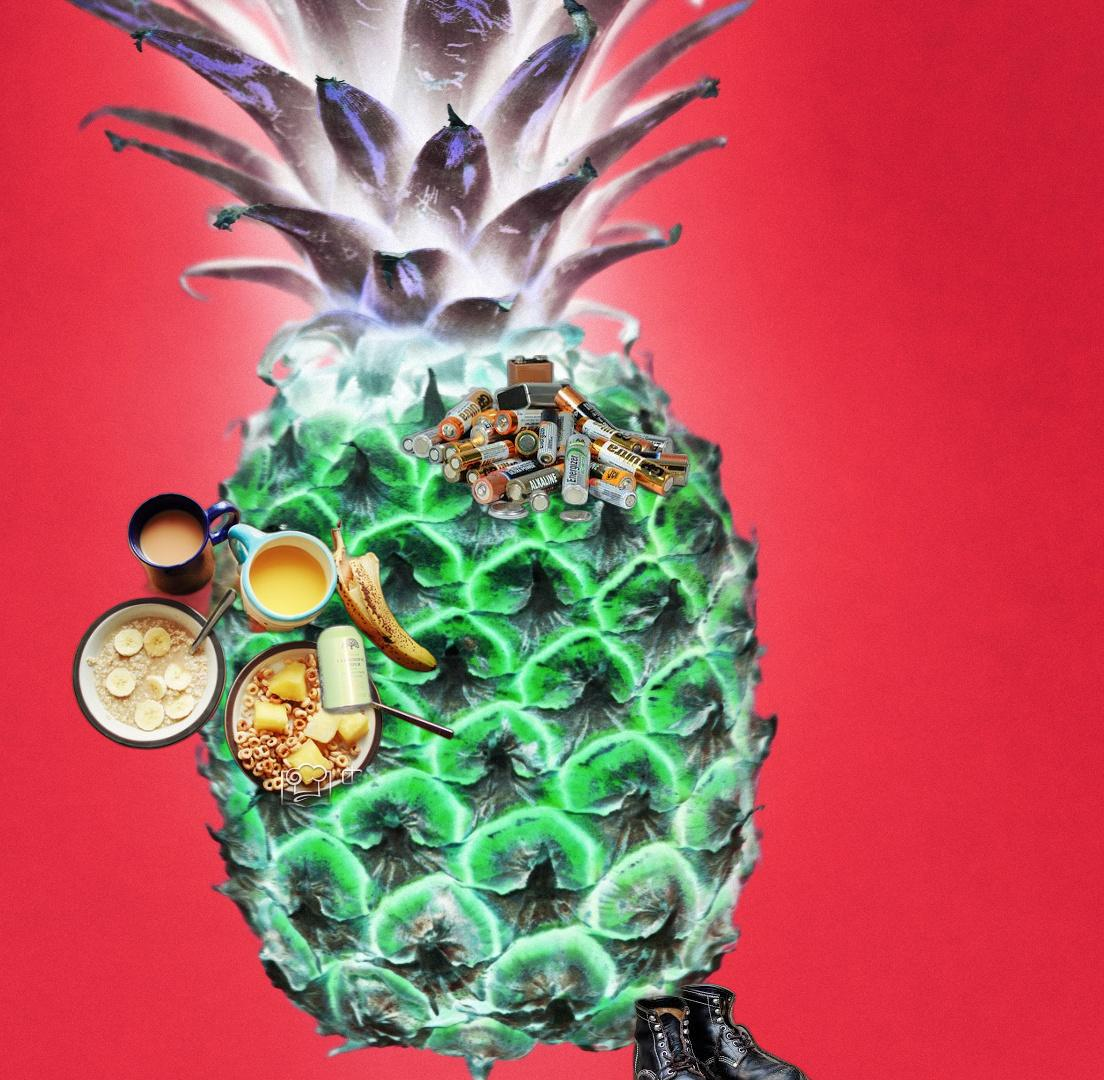battery: (397, 355, 694, 523)
biological: (68, 491, 458, 810)
metal-cans: (303, 588, 440, 729)
shoes: (608, 981, 883, 1080)
trashbox-cardboard: (824, 1064, 1104, 1080)
